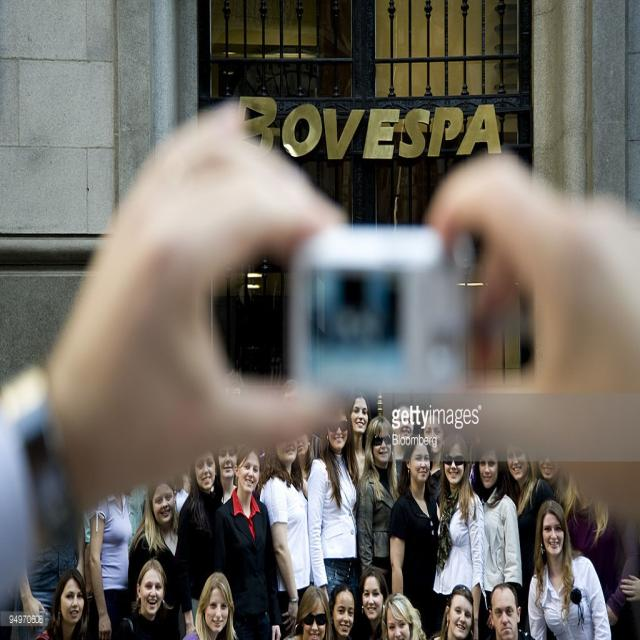body: (0, 94, 640, 399), (117, 557, 539, 640), (83, 398, 338, 487), (0, 398, 84, 640), (550, 465, 640, 639), (213, 441, 282, 640), (556, 478, 639, 630), (526, 498, 614, 640), (386, 433, 446, 640), (257, 435, 314, 639), (472, 399, 640, 467), (432, 430, 486, 639), (469, 436, 524, 640), (126, 476, 196, 636), (306, 400, 359, 607), (503, 436, 555, 640), (175, 450, 225, 637), (355, 414, 400, 596), (89, 490, 133, 640), (528, 456, 586, 556), (342, 387, 372, 483), (418, 410, 446, 509), (390, 403, 418, 487), (216, 433, 238, 508), (123, 486, 148, 548), (171, 486, 195, 517), (83, 486, 94, 552)
